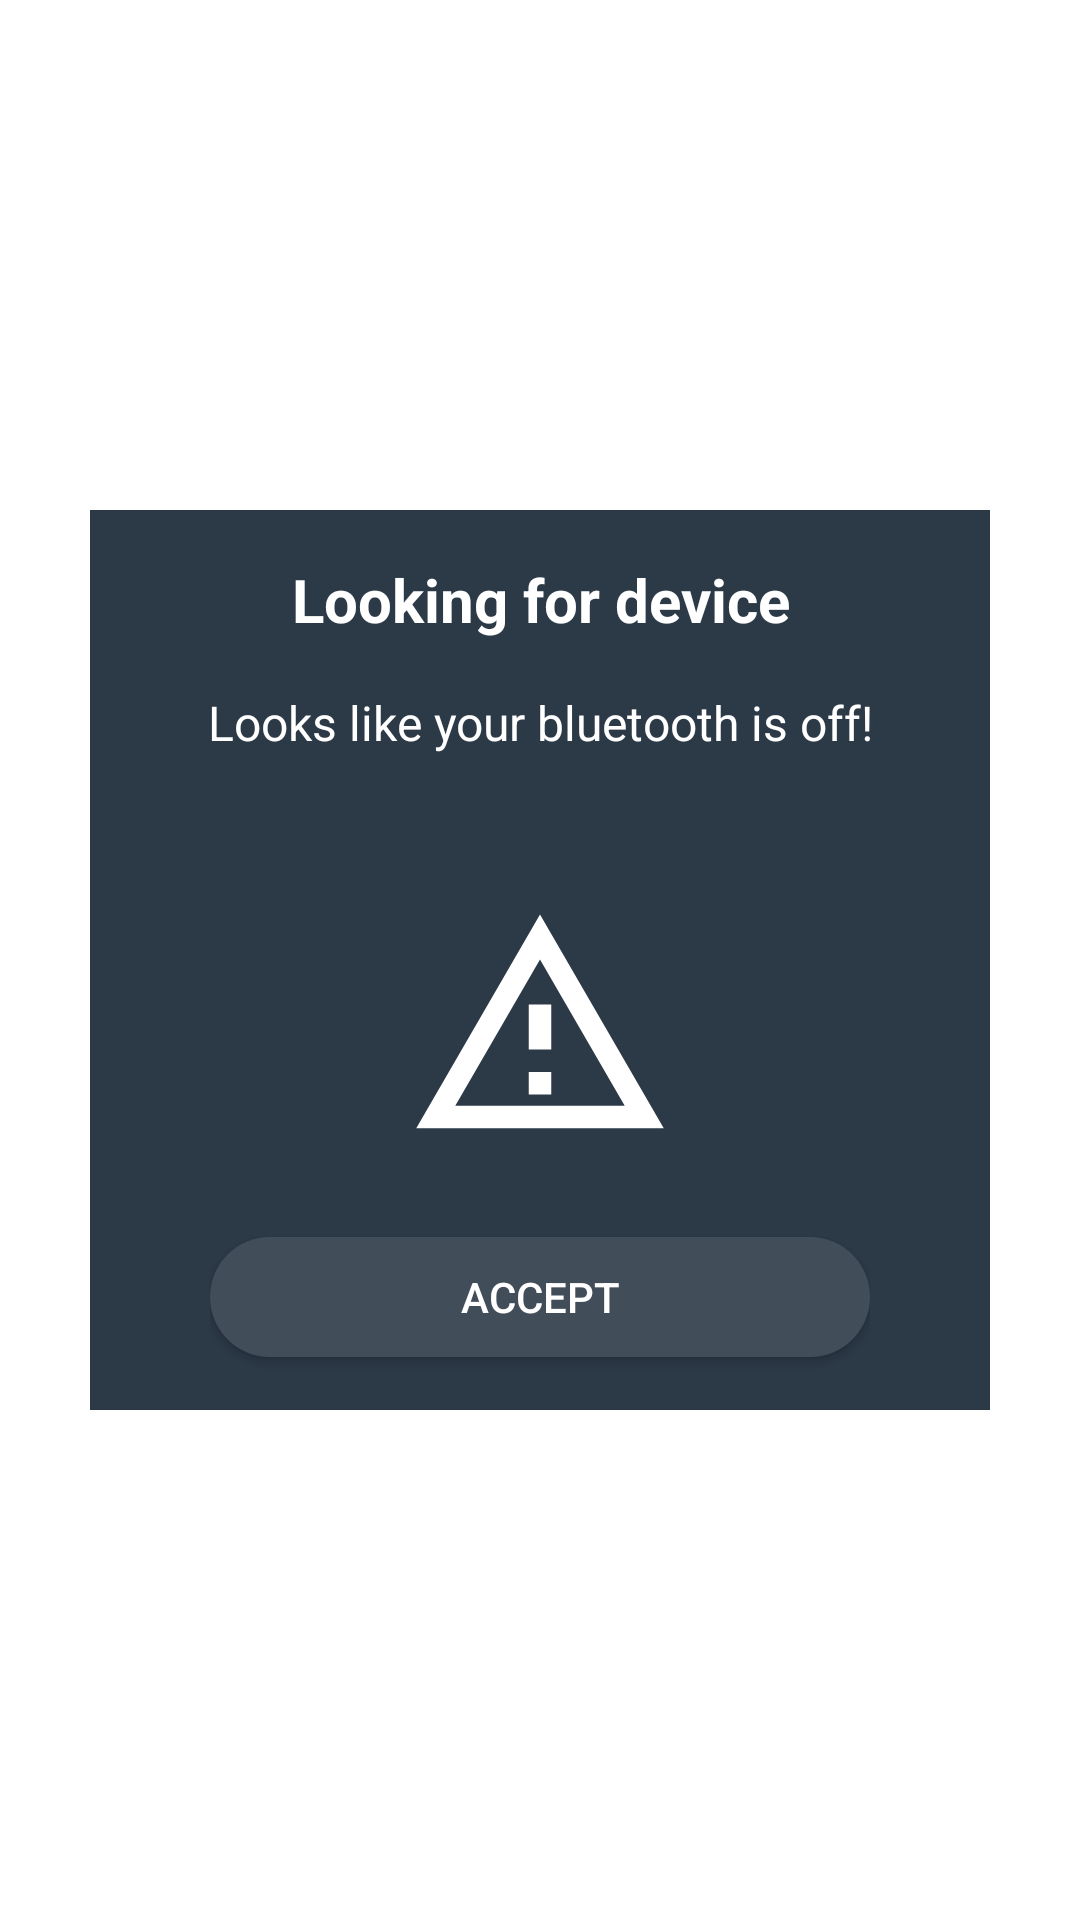

Named icons in this screenshot (1080 × 1920) and their centers, (x=x, y=y):
warning: (x=540, y=1022)
